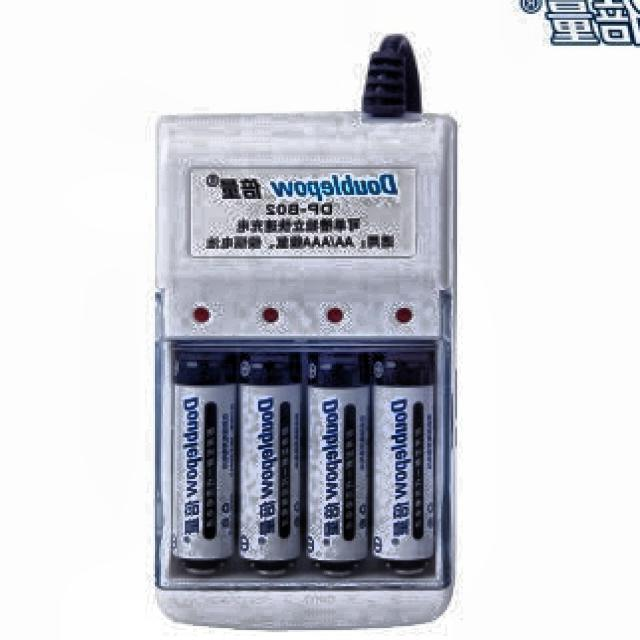Non-Valuable Waste - Batteries: (172, 350, 237, 574), (306, 352, 370, 574), (371, 351, 434, 572), (238, 354, 301, 574)
